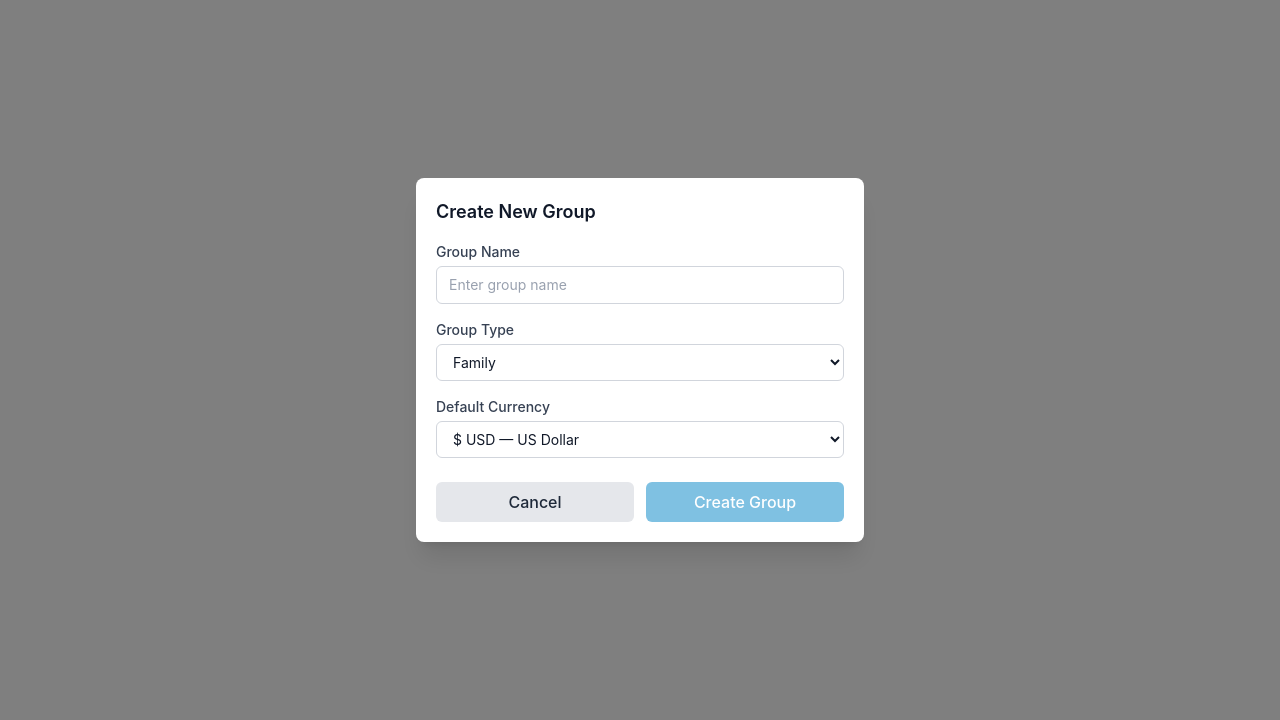
Scenario: CreateGroupDialog › shows loading state while submitting
The image size is (1280, 720).
In the field with test id "group-name-input": (640,285) [436,266,844,304], type "My Group"
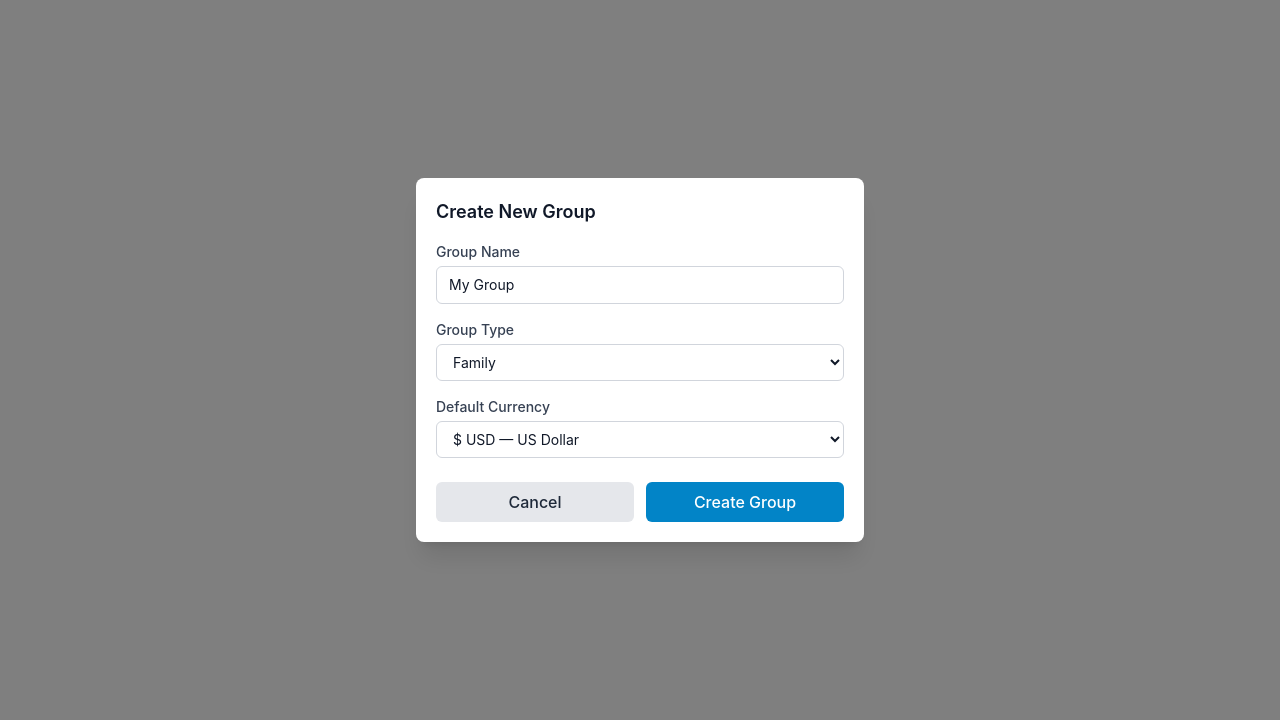
Click the button with test id "confirm-create-group-btn": (745,502) [646,482,844,522]
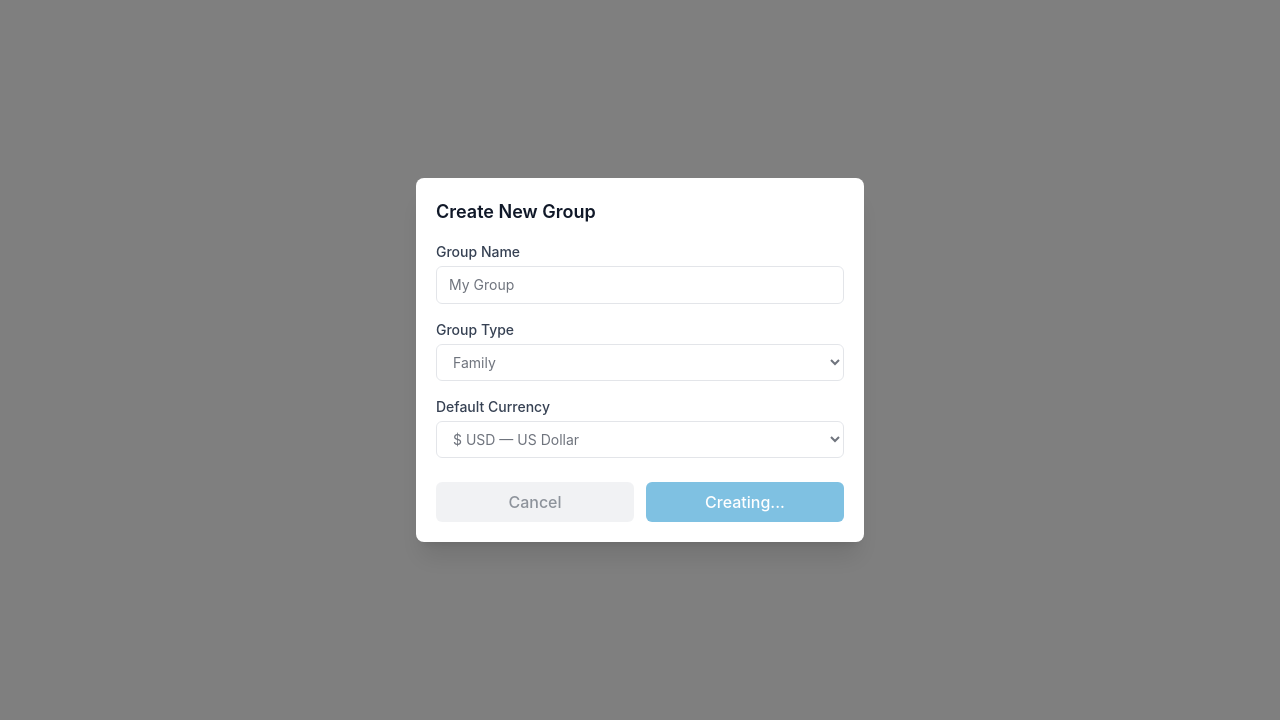
Expected: the button with test id "confirm-create-group-btn" reads "Creating...", [646,482,844,522]
Expected: the button with test id "confirm-create-group-btn" is disabled, [646,482,844,522]
